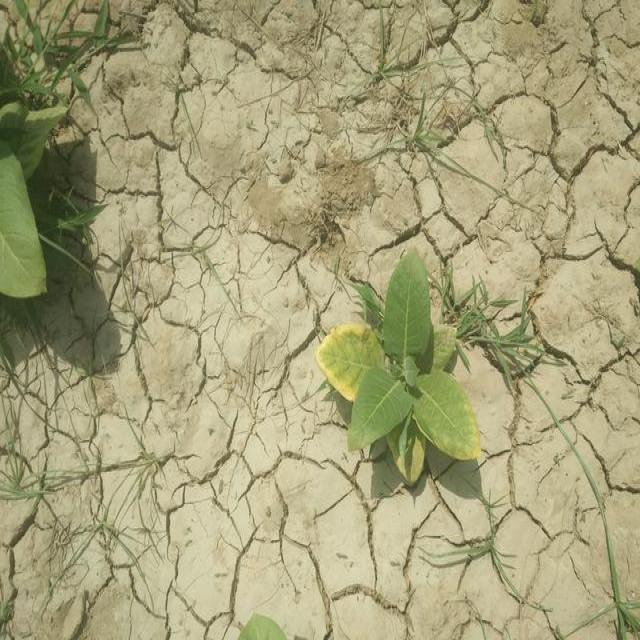crop: (314, 258, 476, 490)
